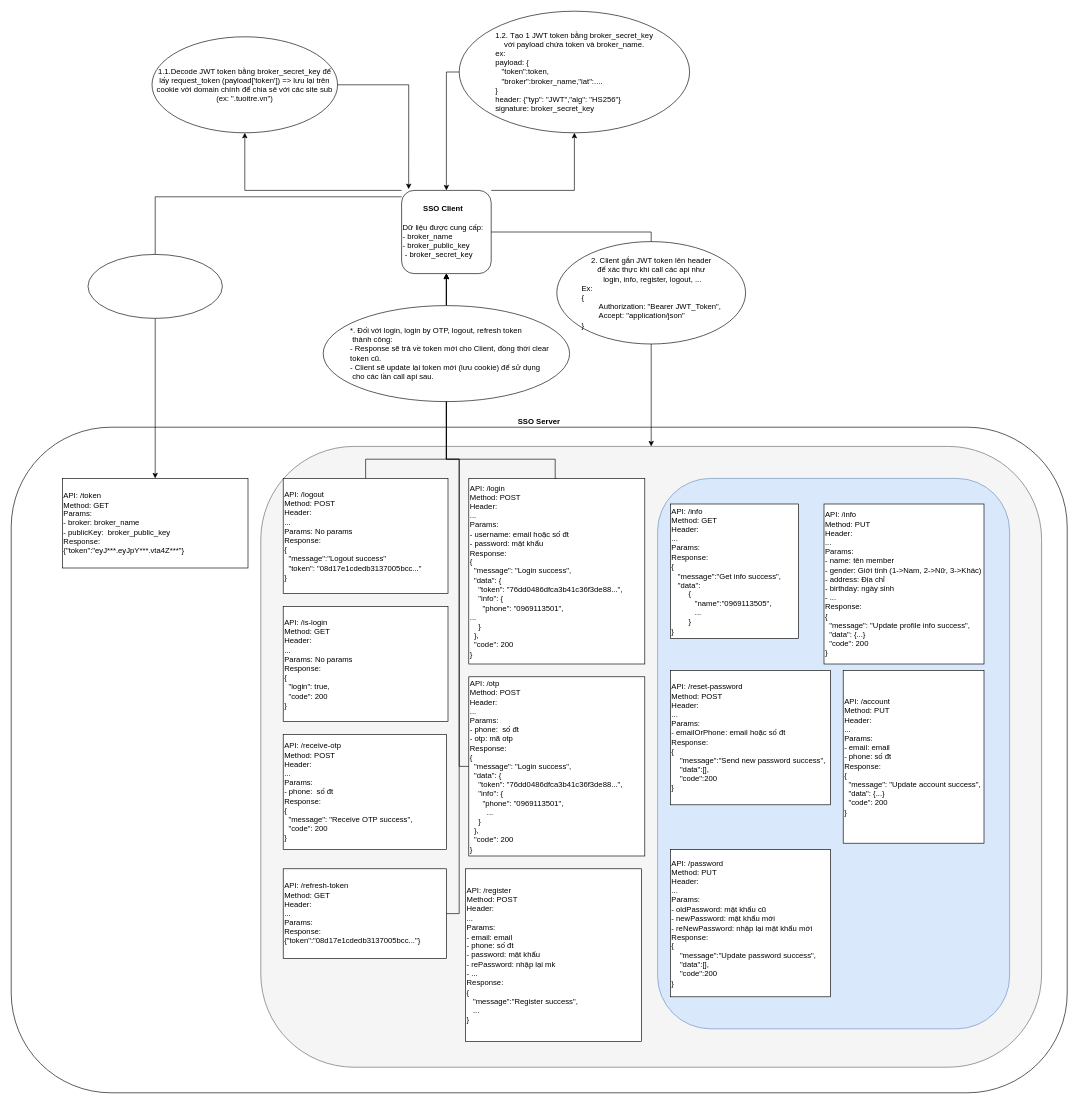
Image size: 1078x1104. Some labels were removed from this diagram. Each missing label, with the box of its shape:
1.Call api /token lần đầu để lấy token (JWT): (87, 254, 222, 318)
Đã login: (657, 478, 1010, 1029)
